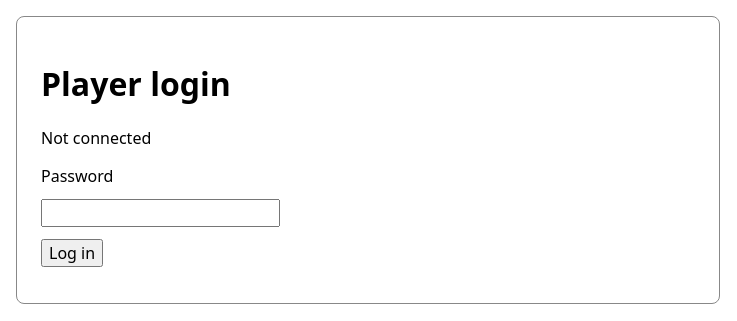
player login and session bootstrap › shows a user-visible bounded message for CSRF, rate-limit, and invalid credentials
Later steps or results of the test are not shown.
Type "never-persist-this" into the password field named "password" at [160, 213], box [41,199,280,227]
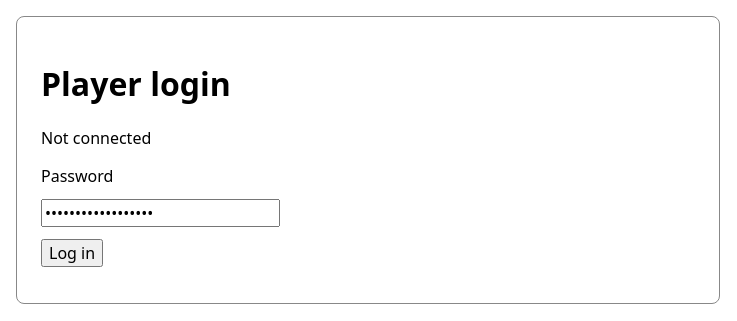
Submit the form, box [41,165,280,267]
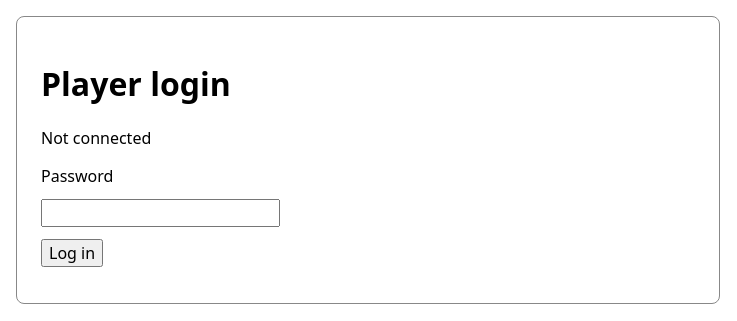
Result: the password field named "password" is empty
Type "never-persist-this" into the password field named "password" at [160, 213], box [41,199,280,227]
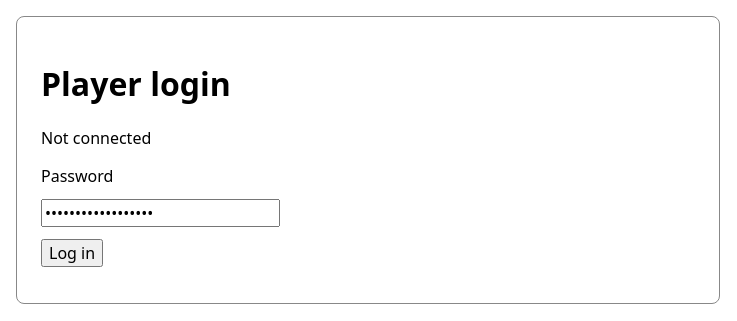
Submit the form, box [41,165,280,267]
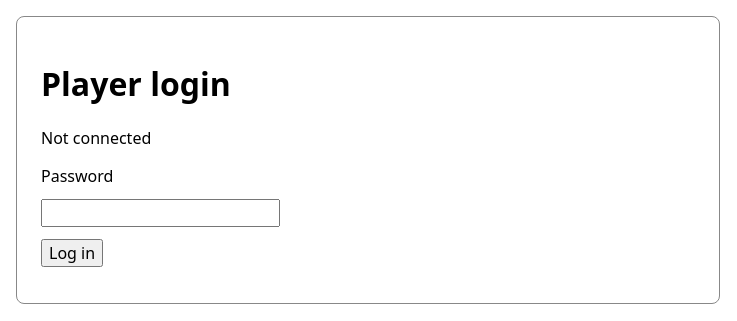
Result: the password field named "password" is empty at [41,199,280,227]
